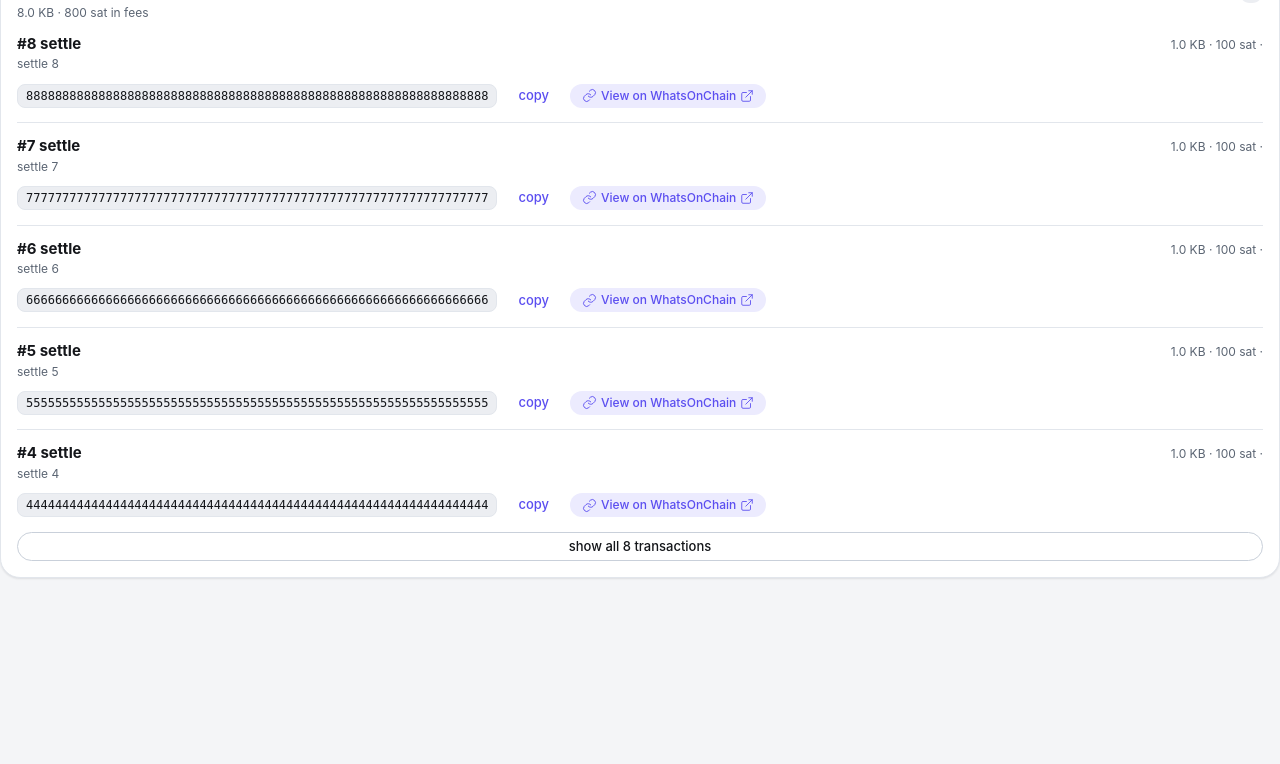
it: TxLog › opens the full log on request, and goes back
Click the button "show all 8 transactions".
click(640, 547)  # box [17,532,1263,561]
(page scrolled)
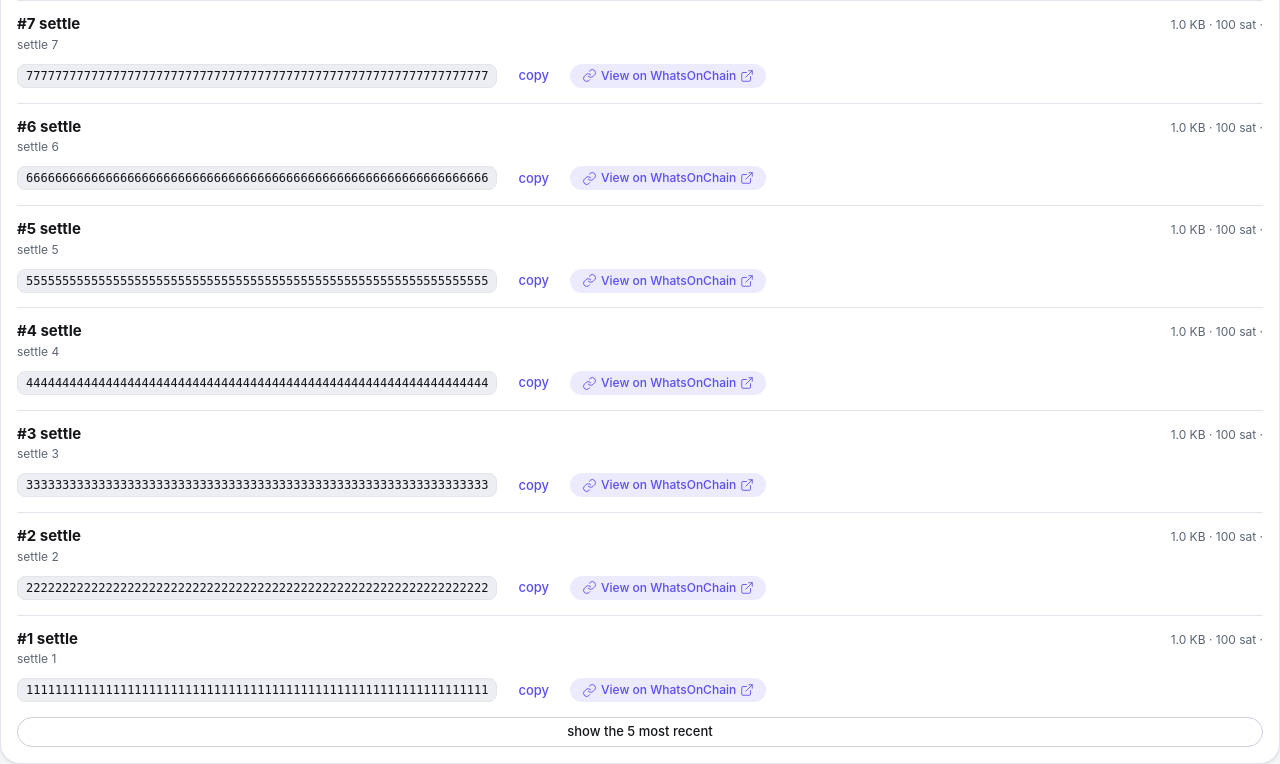
Click the button "show the 5 most recent".
click(640, 732)  # box [17,717,1263,746]
(page scrolled)
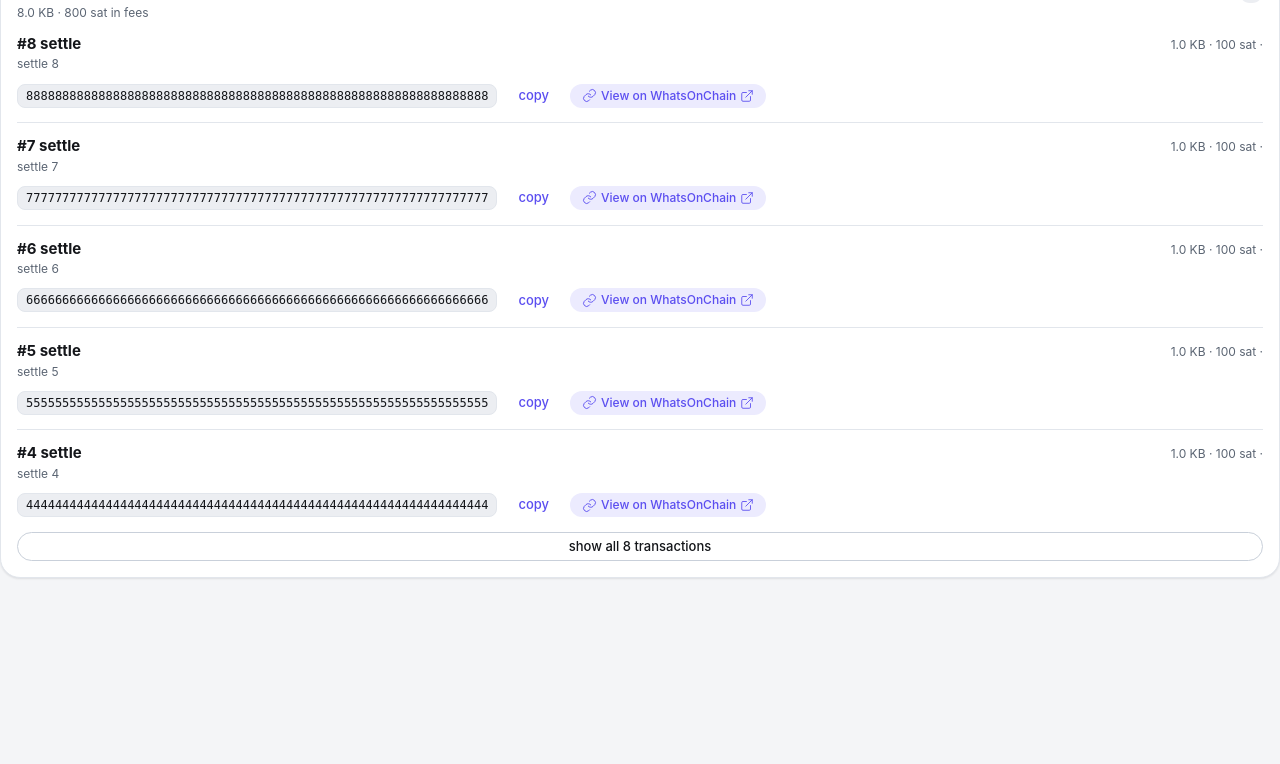
Expected: the text "#8 settle" is shown 5 times, [17,33,81,55]; [17,135,80,158]; [17,238,81,260]; [17,340,81,363]; [17,442,82,465]
